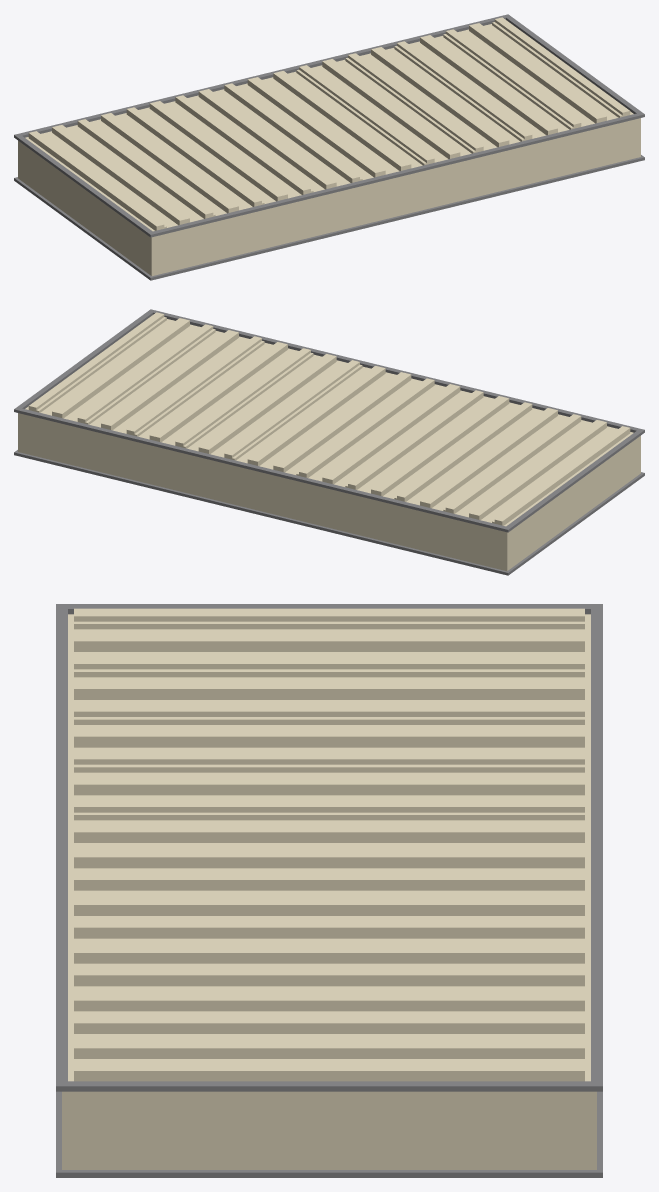
File: down_mattress.glb
3 views of the same model, one above another, from view 1: azimuth 30°, elevation 25°; view 2: azimuth 150°, elevation 25°; view 3: azimuth 270°, elevation 25° (orthographic). The views are drawn at different scales.
Parts seen in each view (by area): view 1: down_mattress:compound; view 2: down_mattress:compound; view 3: down_mattress:compound.
Boxes of the visible parts, x1,y1,x2,y2 form: down_mattress:compound: (14,14,644,280); down_mattress:compound: (14,309,644,575); down_mattress:compound: (56,604,602,1177).
Size of the model in its own units: 1.92 by 0.18 by 0.92.
